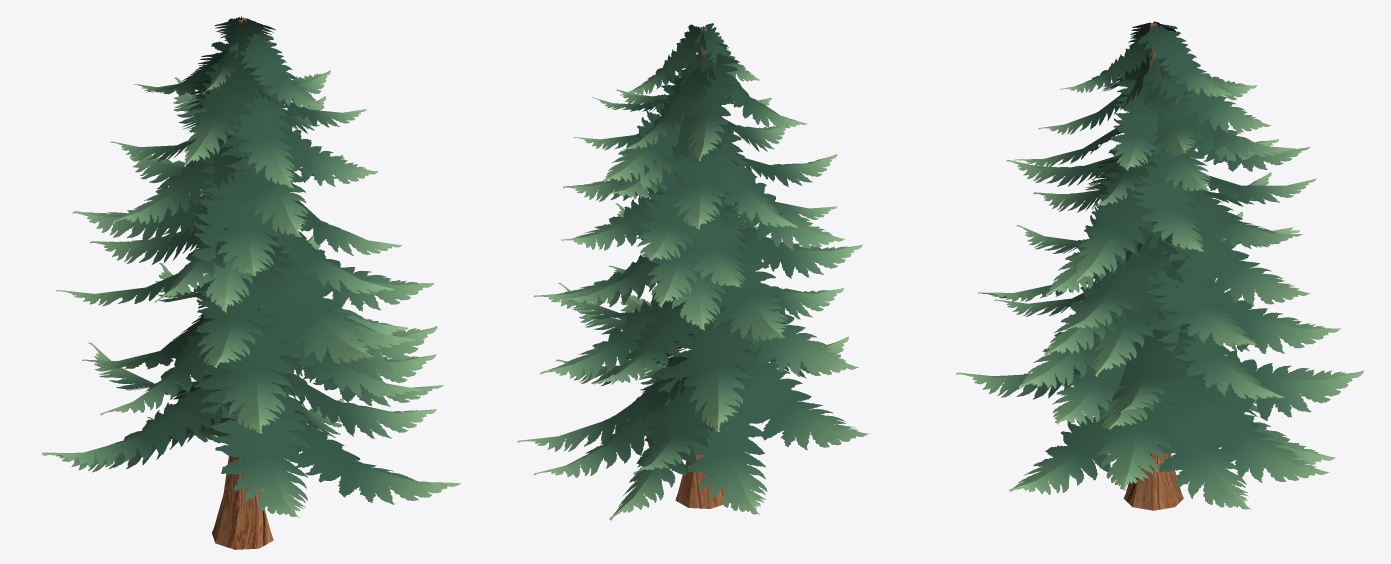
File: SM_Env_TreeGreen2.fbx
3 renders of one model, left to right at view 1: azimuth 30°, elevation 25°; view 2: azimuth 150°, elevation 25°; view 3: azimuth 270°, elevation 25°, orthographic. The views are drawn at different scales.
Parts seen in each view (by area): view 1: SM_Env_TreeGreen2; view 2: SM_Env_TreeGreen2; view 3: SM_Env_TreeGreen2.
Boxes of the visible parts, bbox=[...] form: SM_Env_TreeGreen2: bbox=[41, 16, 460, 549]; SM_Env_TreeGreen2: bbox=[517, 23, 869, 520]; SM_Env_TreeGreen2: bbox=[956, 21, 1363, 510].
Bounding box in the file's own units: 266 × 332 × 275.
